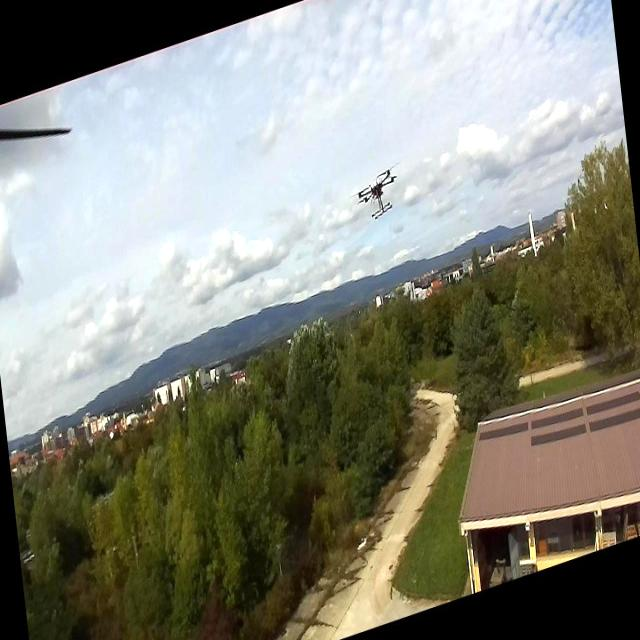drone: (353, 162, 401, 228)
